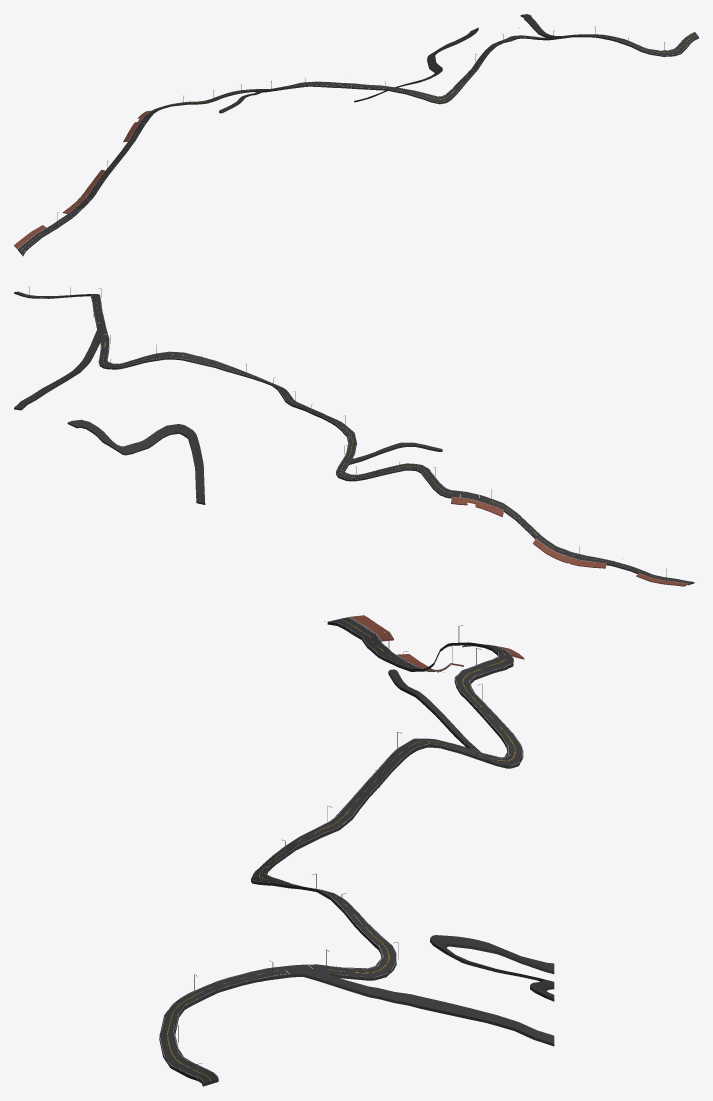
The picture shows the model from 3 angles, top to bottom: view 1: azimuth 30°, elevation 25°; view 2: azimuth 150°, elevation 25°; view 3: azimuth 270°, elevation 25°; orthographic projection. The views are drawn at different scales.
Size of the model in its own units: 590 by 90.49 by 156.
